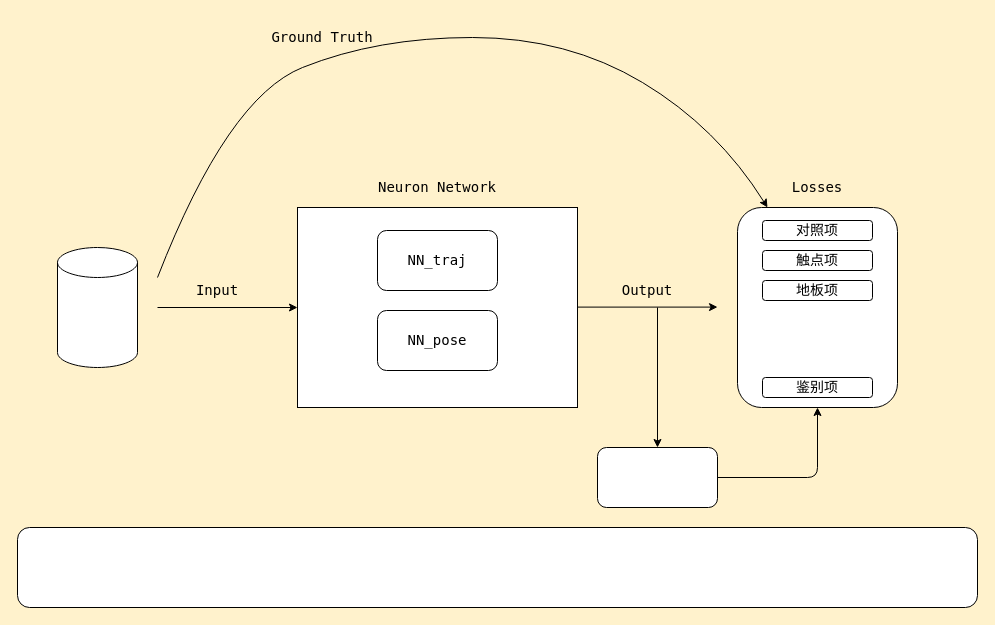
This 995x625 diagram has some shape labels left out. The centre of each missing label's shape, as x and y in pixels:
"Datasets" belongs at point (97, 307).
"Discriminator" belongs at point (657, 477).
"Training" belongs at point (497, 567).
